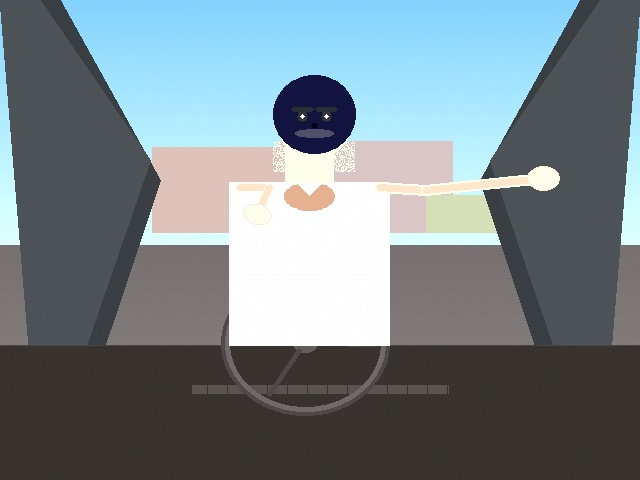hands_off_wheel: (521, 158, 565, 197)
